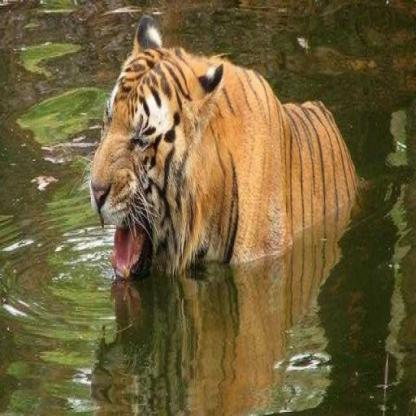Tiger: (80, 10, 366, 302)
